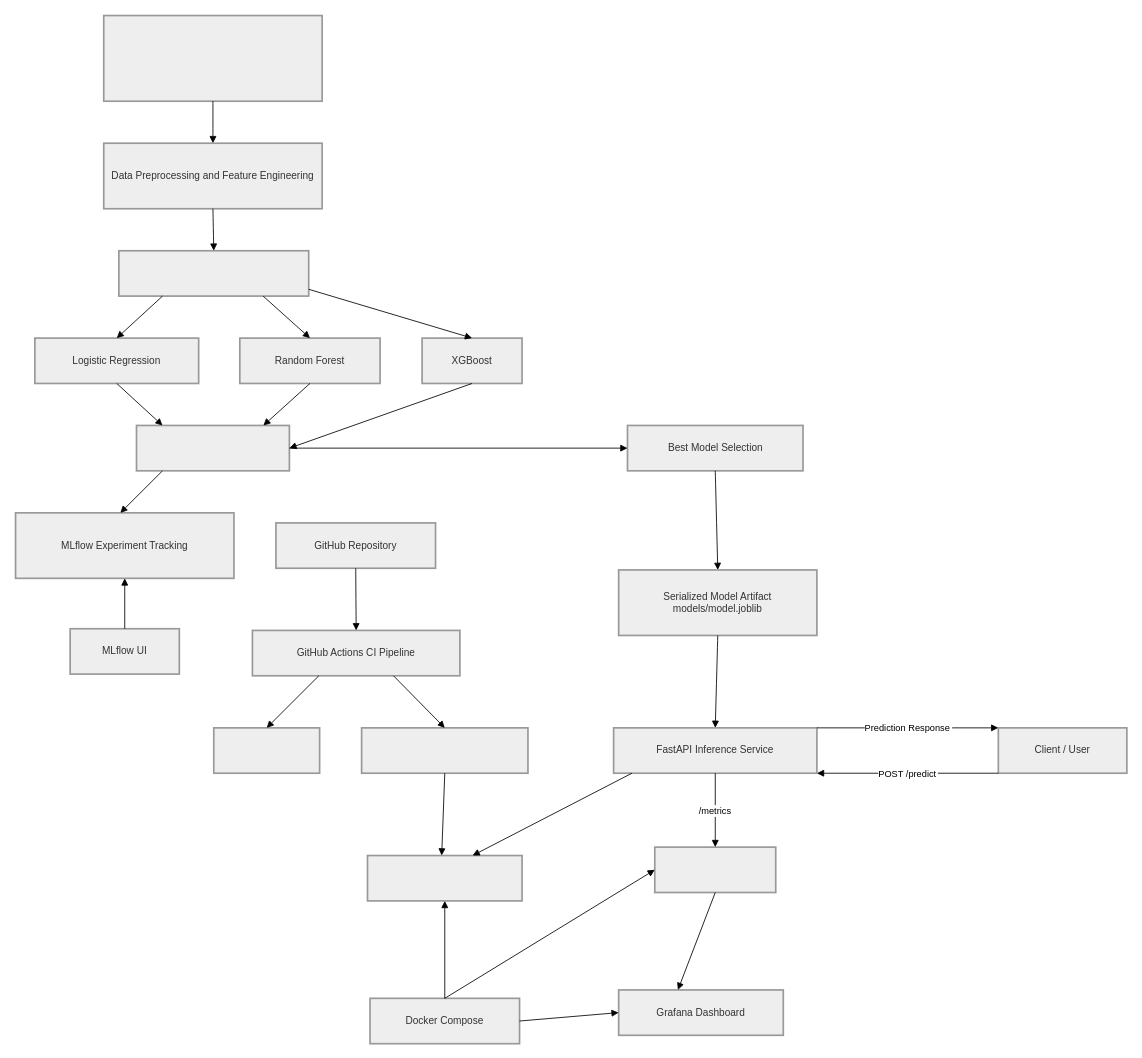
Image size: 1142x1058. Some labels were removed from this diagram. Here are the shapes that lost their labels. From the top down, the centre of each, then its label:
At (x=212, y=58): "Online Shoppers Purchasing Intention Dataset".
At (x=213, y=273): "Model Training Pipeline".
At (x=212, y=447): "Model Evaluation".
At (x=266, y=750): "Run Tests".
At (x=444, y=750): "Build Docker Image".
At (x=444, y=877): "Docker Container".
At (x=715, y=869): "Prometheus".
